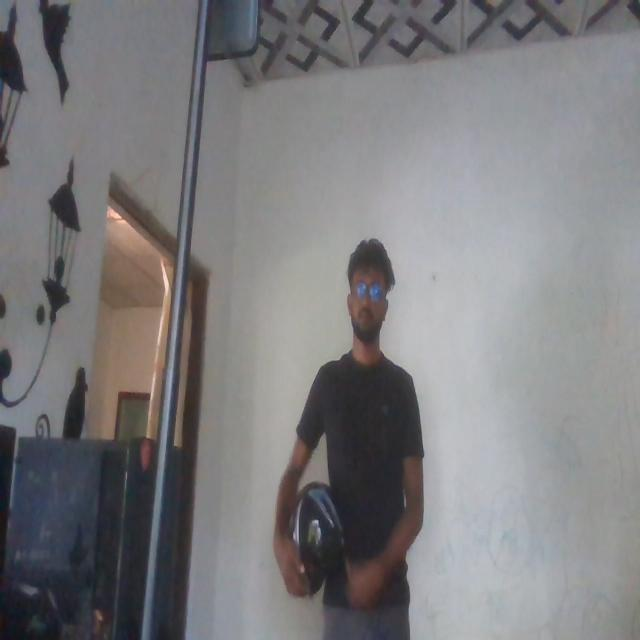Person: (284, 227, 428, 640)
